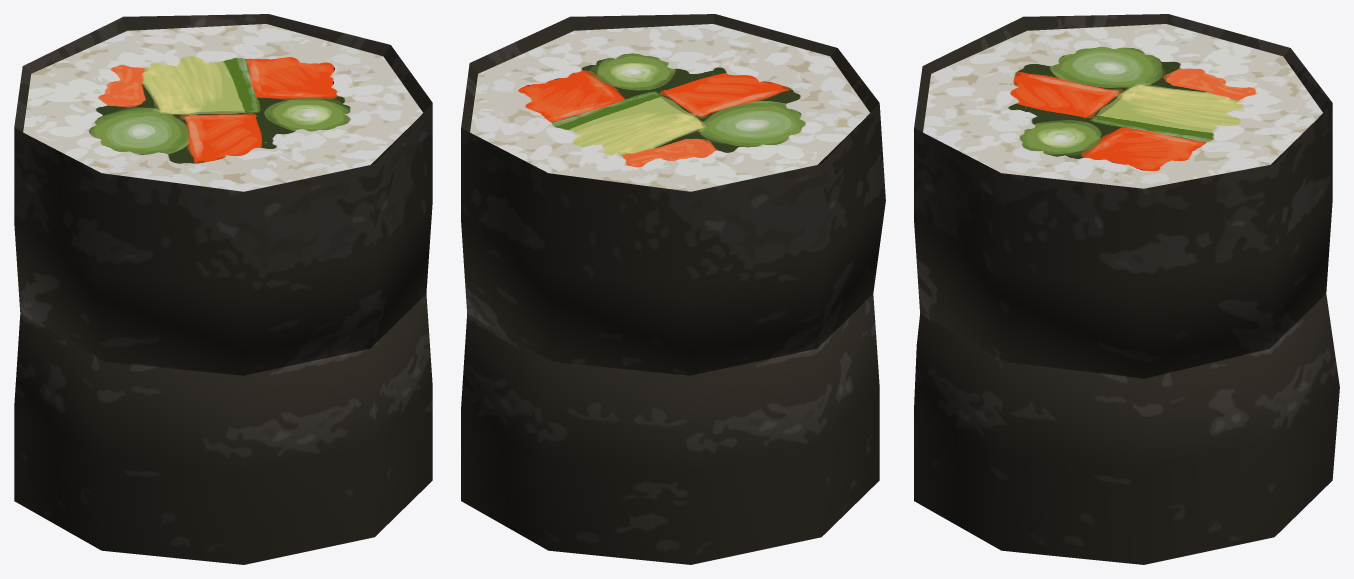
File: SM_SushiMezcla_Split.fbx
3 renders of one model, left to right at view 1: azimuth 30°, elevation 25°; view 2: azimuth 150°, elevation 25°; view 3: azimuth 270°, elevation 25°, orthographic.
Parts seen in each view (by area): view 1: Sushi_Mezcla_Split2, Sushi_Mezcla_Split; view 2: Sushi_Mezcla_Split2, Sushi_Mezcla_Split; view 3: Sushi_Mezcla_Split2, Sushi_Mezcla_Split.
Boxes of the visible parts, bbox=[...] form: Sushi_Mezcla_Split2: bbox=[14, 14, 432, 375]; Sushi_Mezcla_Split: bbox=[14, 294, 432, 564]; Sushi_Mezcla_Split2: bbox=[461, 14, 885, 375]; Sushi_Mezcla_Split: bbox=[461, 294, 879, 564]; Sushi_Mezcla_Split2: bbox=[914, 14, 1332, 378]; Sushi_Mezcla_Split: bbox=[914, 294, 1339, 564].
Size of the model in its own units: 7.23 by 7.15 by 7.31.
